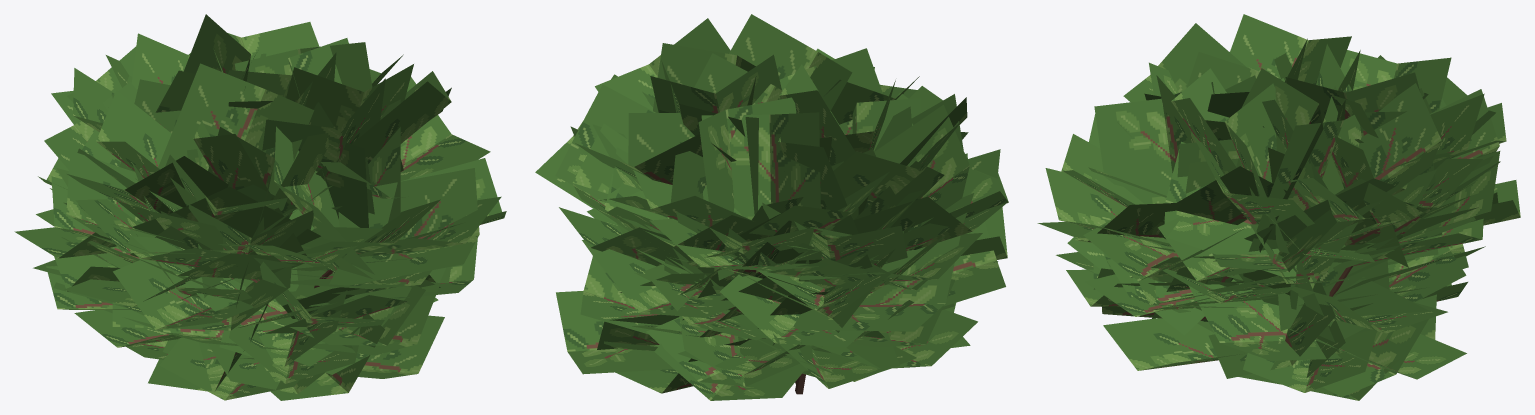
File: leafy_bush2_v1.fbx
The picture shows the model from 3 angles, left to right: view 1: azimuth 30°, elevation 25°; view 2: azimuth 150°, elevation 25°; view 3: azimuth 270°, elevation 25°; orthographic projection. The views are drawn at different scales.
Parts seen in each view (by area): view 1: leafy_bush2_v1; view 2: leafy_bush2_v1; view 3: leafy_bush2_v1.
Boxes of the visible parts, left/top/right/bottom form: leafy_bush2_v1: left=14, top=14, right=506, bottom=400; leafy_bush2_v1: left=535, top=14, right=1008, bottom=400; leafy_bush2_v1: left=1037, top=14, right=1520, bottom=400.
Bounding box in the file's own units: 156 × 113 × 165.
